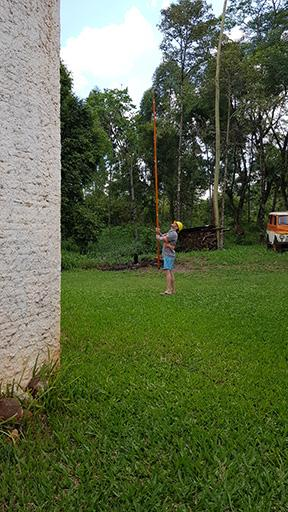Vara_Manobra: (153, 96, 161, 270)
